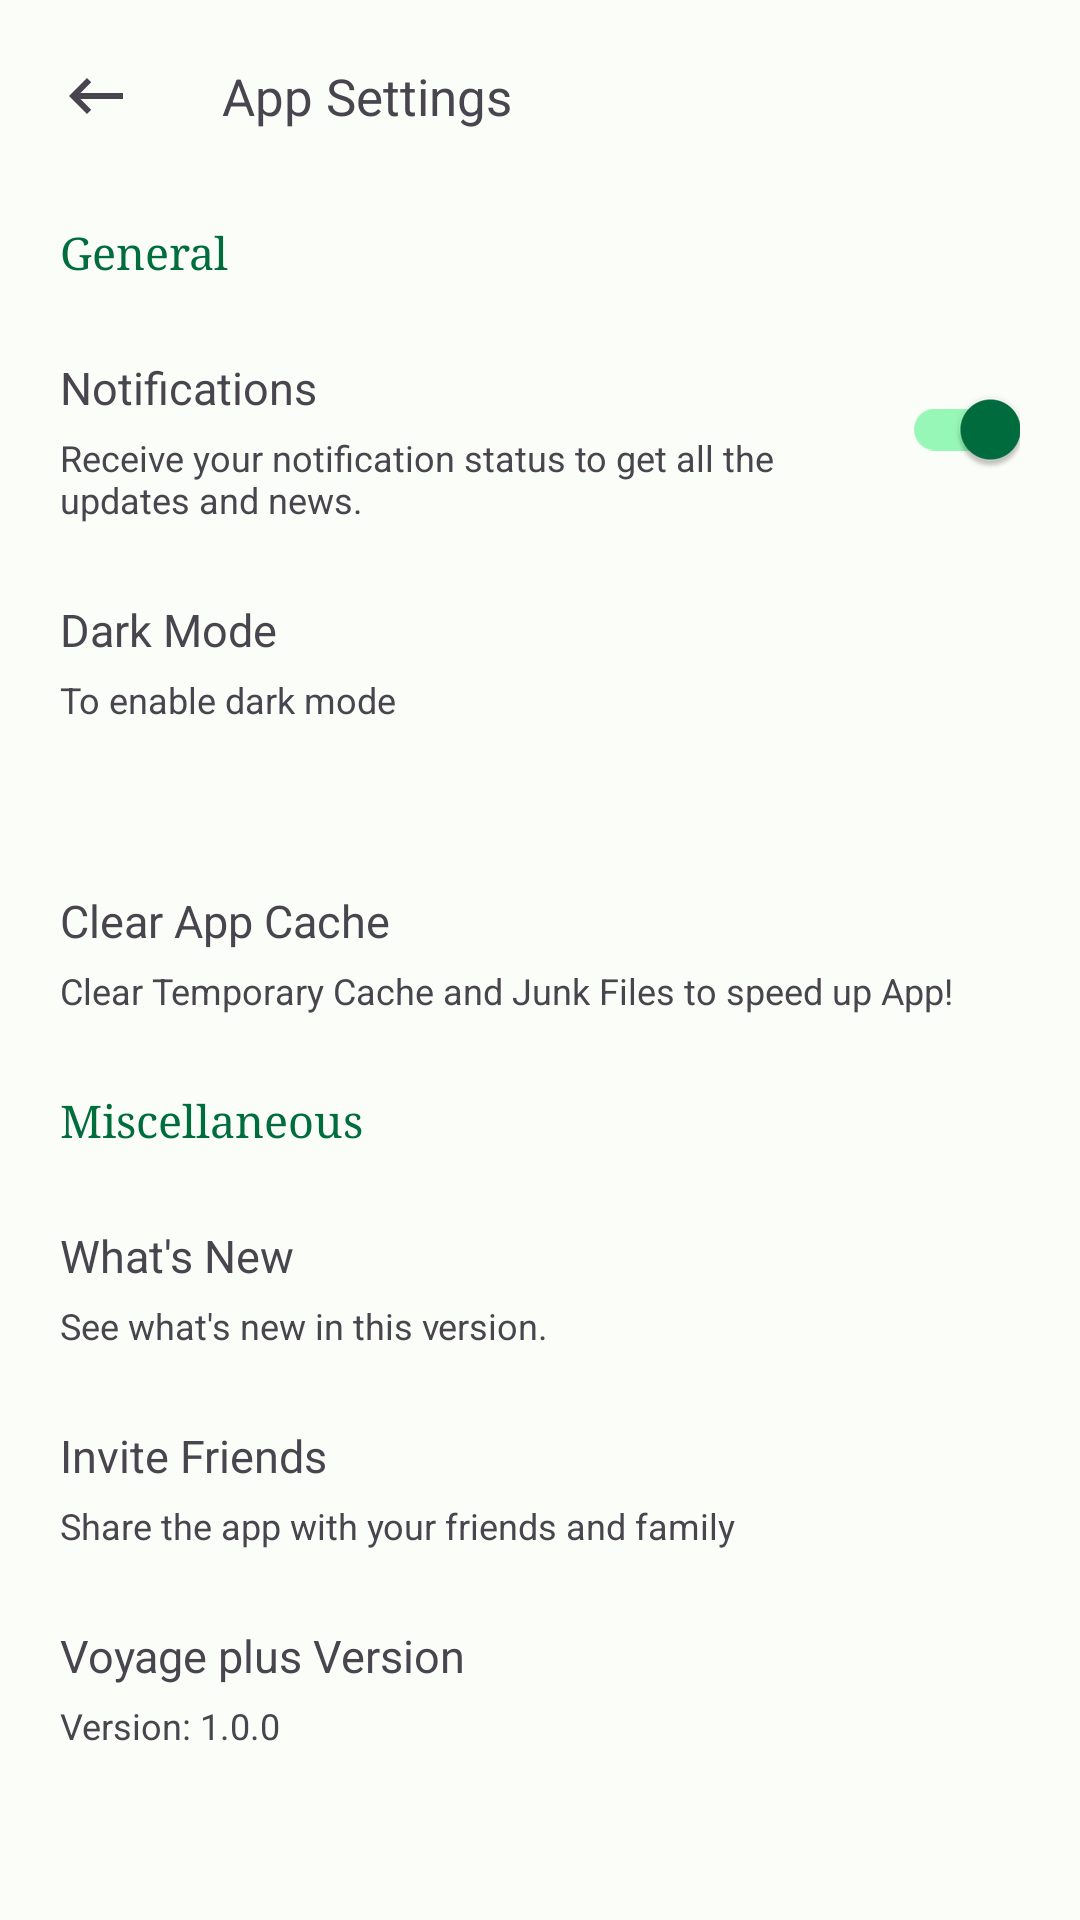

Locate icon controls on the screen. Image size 1080x1920, boxes as (x1, y1, x2, y2).
keyboard backspace: (69, 78, 123, 114)
